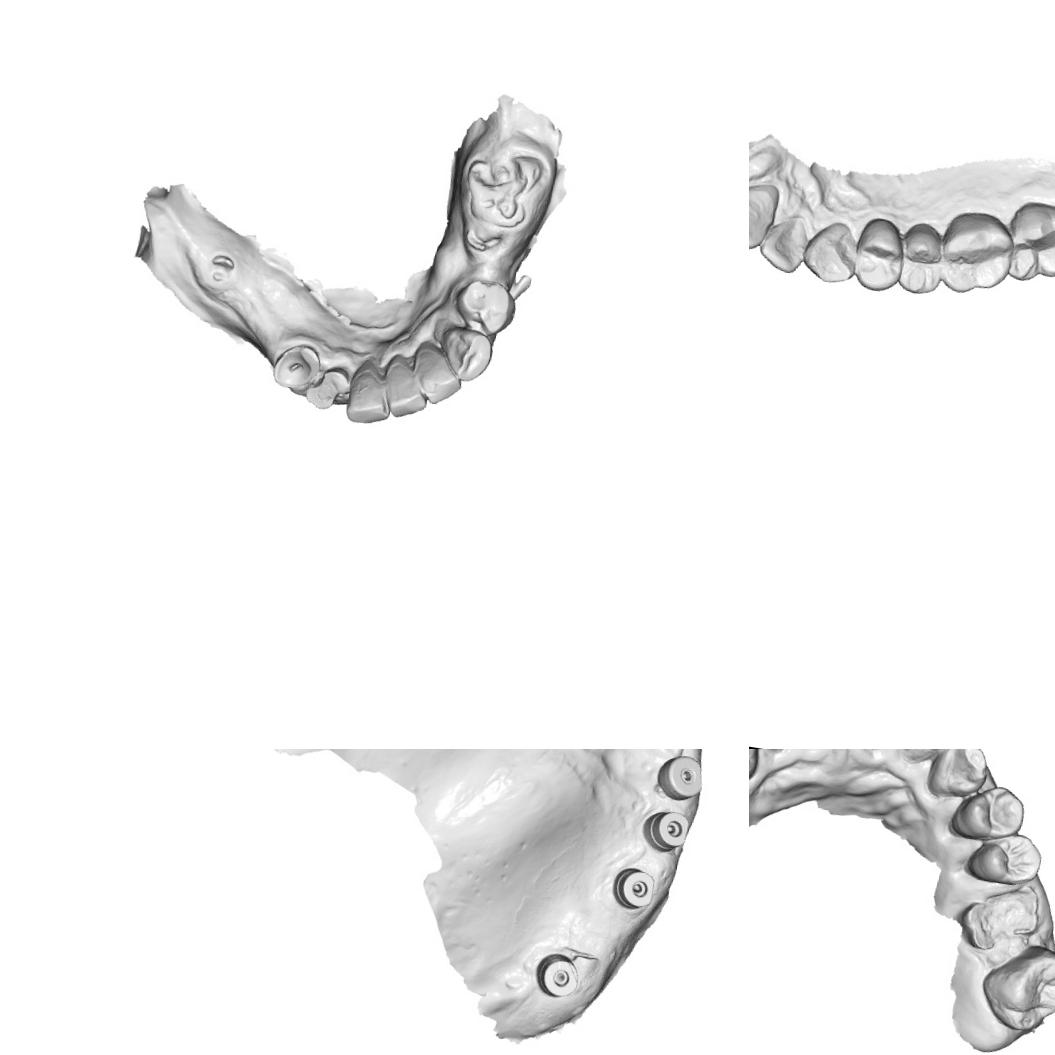canine: (798, 216, 860, 289), (920, 749, 993, 805), (434, 322, 496, 385)
implant: (654, 750, 710, 804), (534, 952, 585, 1000), (612, 864, 658, 914), (644, 806, 690, 852)
incisor: (406, 337, 468, 408), (342, 355, 399, 431), (378, 351, 435, 423), (752, 212, 810, 280), (749, 187, 776, 254), (895, 749, 959, 768)
molar: (973, 935, 1055, 1042), (932, 206, 1015, 304), (997, 196, 1055, 290)
premolar: (946, 777, 1032, 850), (962, 824, 1046, 894), (847, 215, 906, 298), (890, 219, 949, 300), (450, 274, 520, 342)
